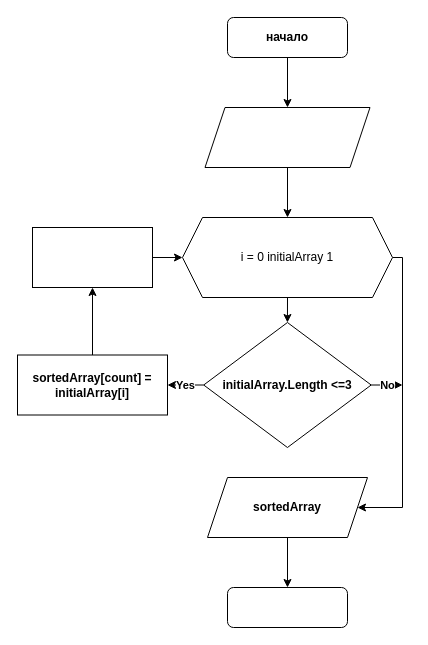
This 428x645 diagram has some shape labels left out. Here are the shapes that lost their labels. From the top down, the centre of each, then its label:
pixel 287 137: initialArray sortedArray count
pixel 92 257: count++
pixel 287 607: конец
